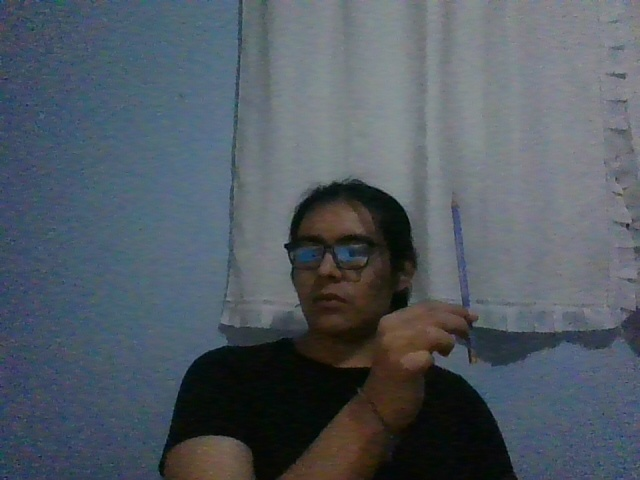lapiz: (450, 190, 479, 365)
